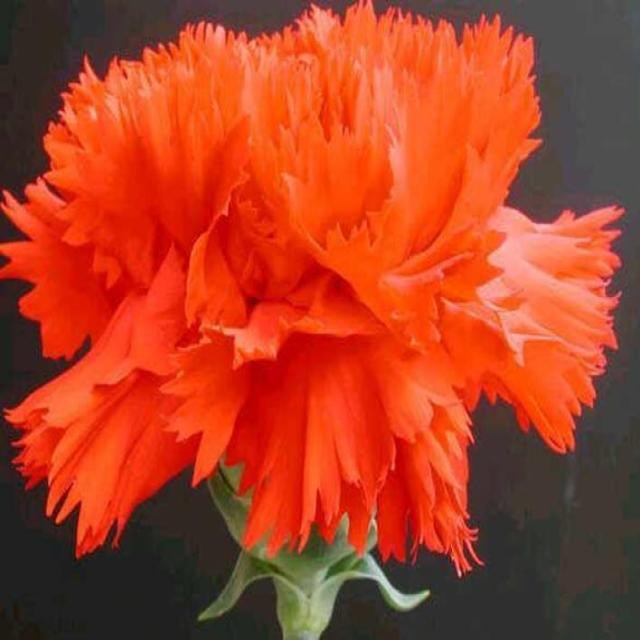carnation: (18, 8, 603, 628)
